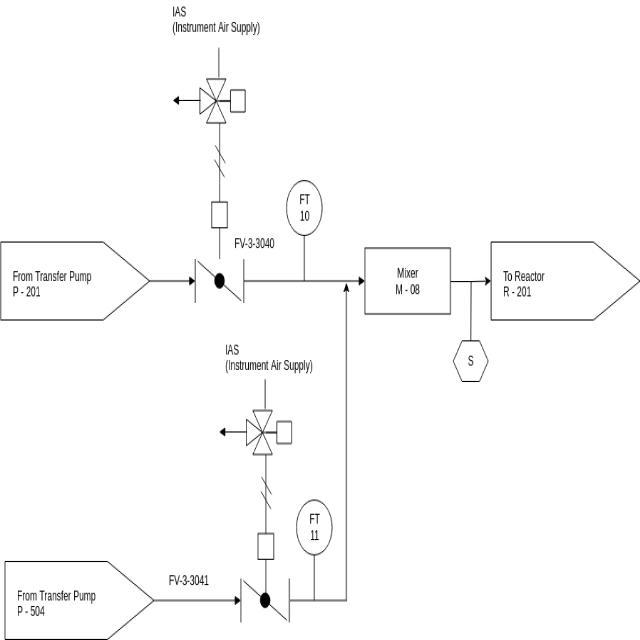3 Way Gate Valve: (196, 76, 230, 130), (242, 407, 274, 460)
Butterfly Valve: (232, 570, 294, 635), (188, 250, 248, 316)
